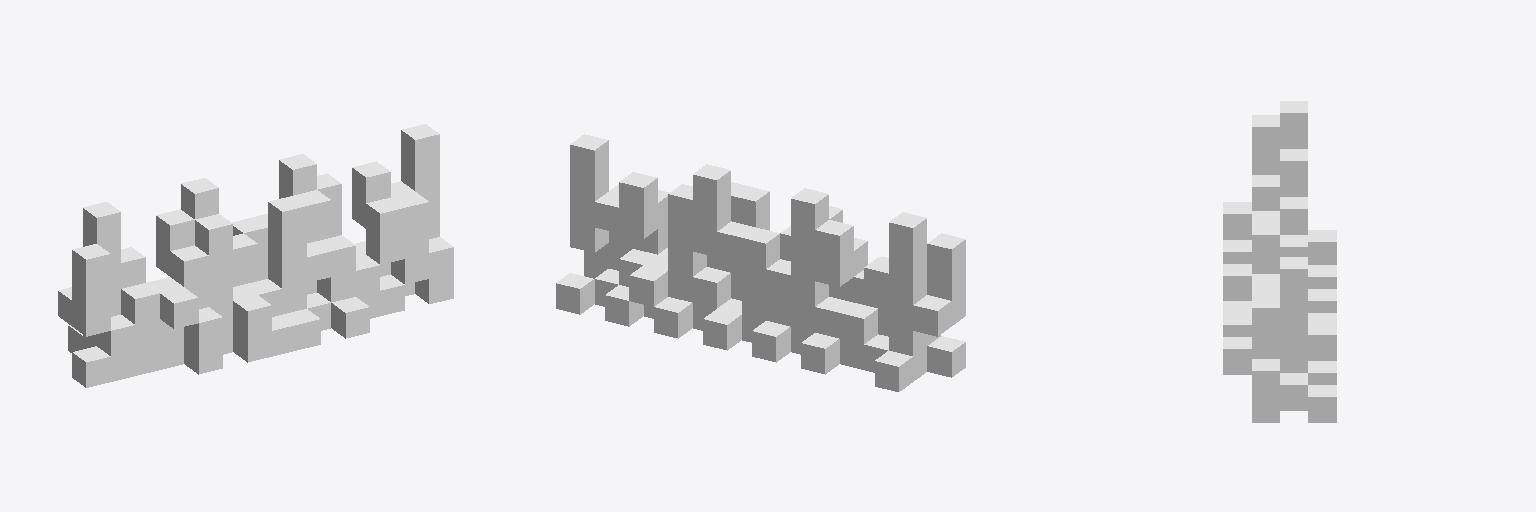
Rendered from Wall1.obj.
The picture shows the model from 3 angles: view 1: azimuth 30°, elevation 25°; view 2: azimuth 150°, elevation 25°; view 3: azimuth 270°, elevation 25°; orthographic projection.
Visible parts, largest first — view 1: ObjObject; view 2: ObjObject; view 3: ObjObject.
Part boxes in pixels (left/top/right/bottom): ObjObject: left=58, top=124, right=453, bottom=387; ObjObject: left=556, top=134, right=965, bottom=391; ObjObject: left=1223, top=101, right=1336, bottom=422.
Size of the model in its own units: 1.5 by 0.6 by 0.4.